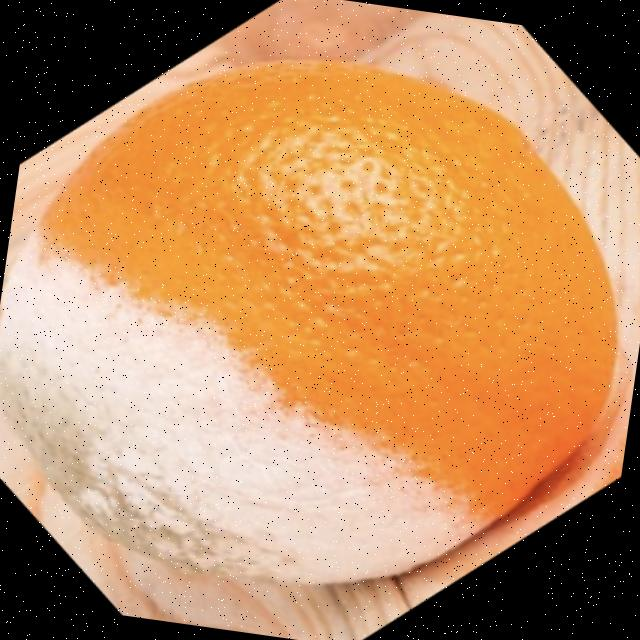Rotten: (0, 19, 640, 628)
